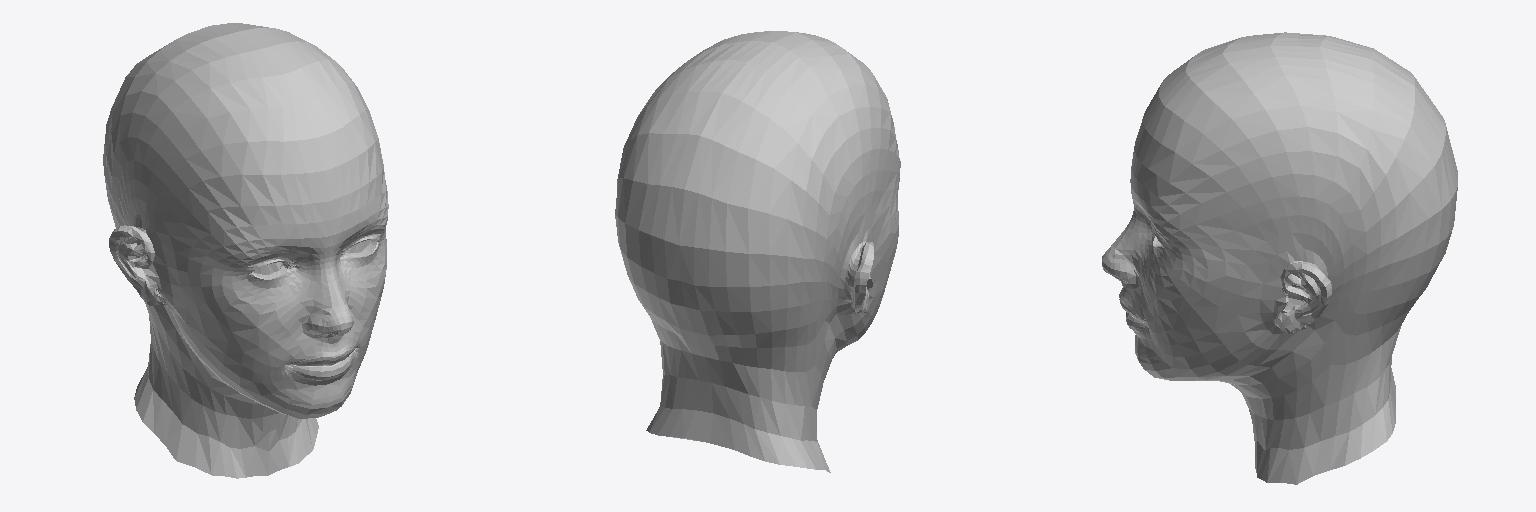
The model's file is babe-head-manifold.obj.
The picture shows the model from 3 angles: view 1: azimuth 30°, elevation 25°; view 2: azimuth 150°, elevation 25°; view 3: azimuth 270°, elevation 25°; orthographic projection.
Parts seen in each view (by area): view 1: polySurface2 polySurface1 Mesh; view 2: polySurface2 polySurface1 Mesh; view 3: polySurface2 polySurface1 Mesh.
Part boxes in pixels (x1,y1,x2,y2): polySurface2 polySurface1 Mesh: (103, 23, 388, 478); polySurface2 polySurface1 Mesh: (615, 31, 900, 472); polySurface2 polySurface1 Mesh: (1102, 32, 1457, 484).
Size of the model in its own units: 1.58 by 2.54 by 1.95.